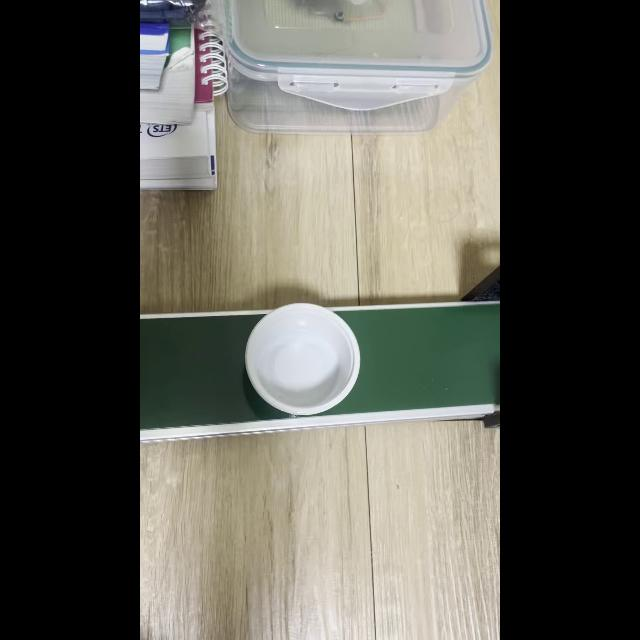clean: (244, 302, 360, 414)
